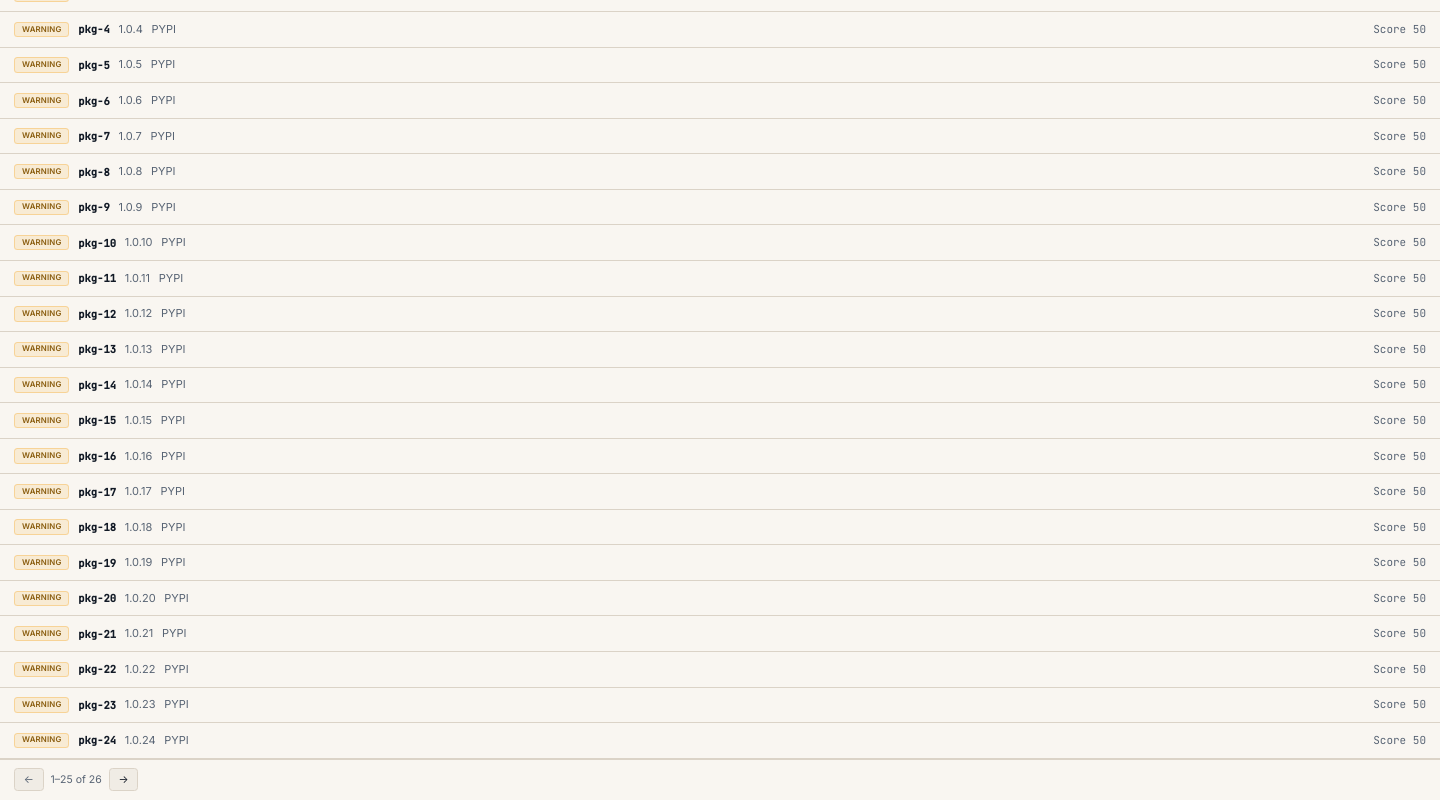
Test case: RisksTable › disables the forward button on the last page
The width and height of the screenshot is (1440, 800).
(page scrolled)
Step 1. Click the button "→" → (123, 780), box 109,768 -> 138,791
(page scrolled)
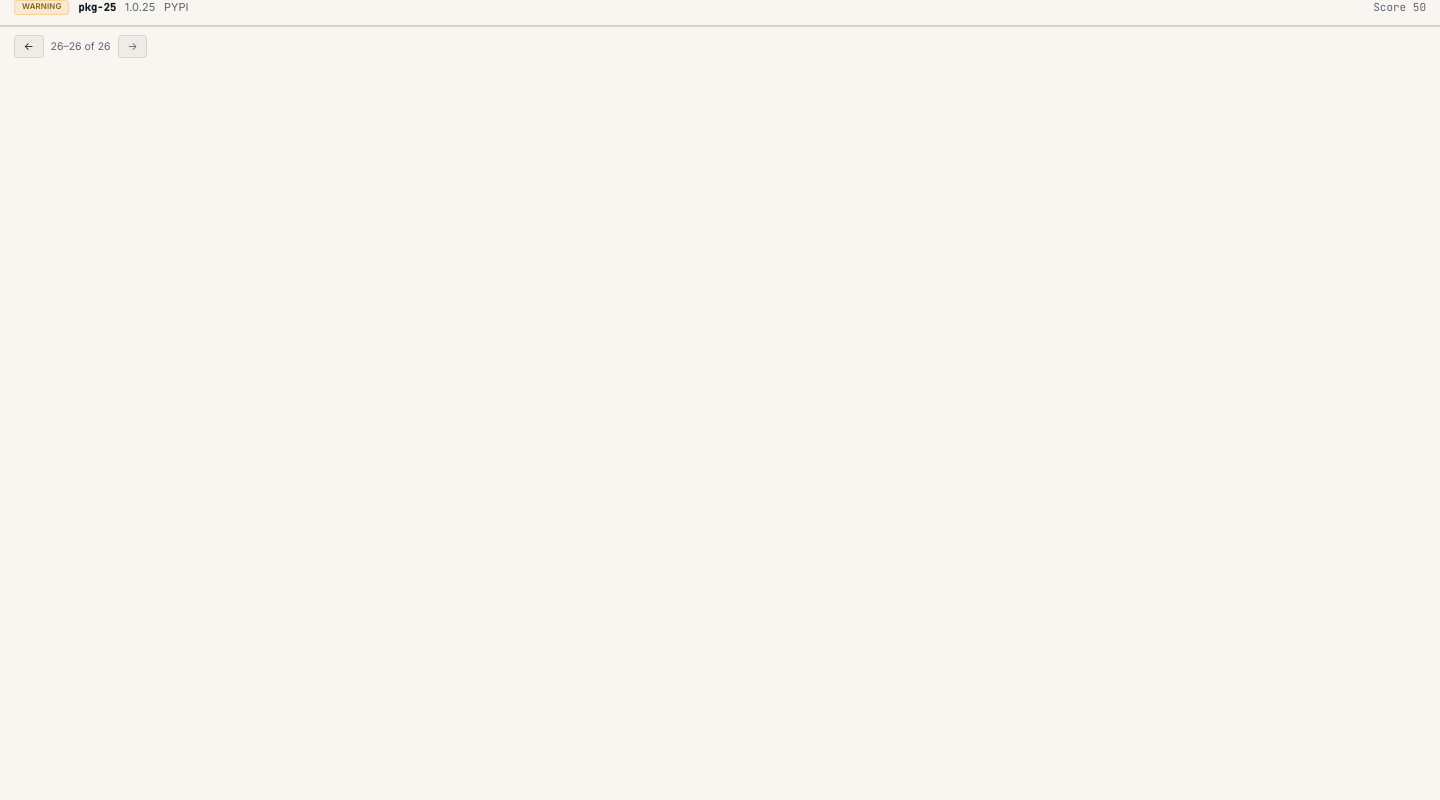
Check: the button "→" is disabled, box 118,35 -> 147,58
